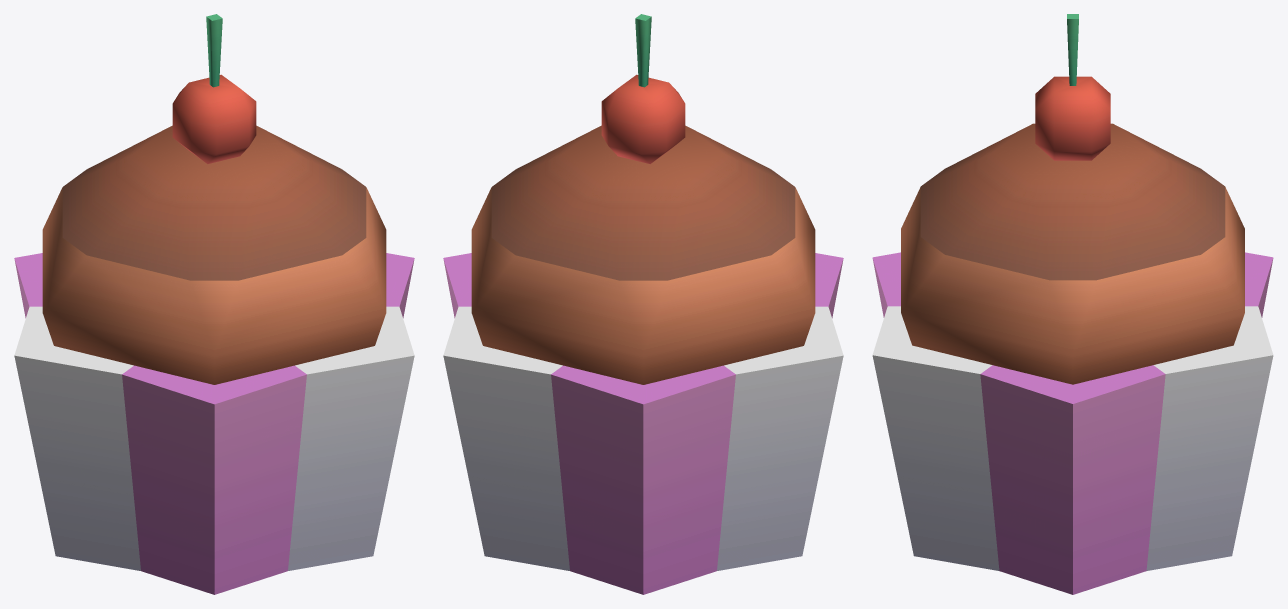
Rendered from cupcake.glb.
The picture shows the model from 3 angles, left to right: view 1: azimuth 30°, elevation 25°; view 2: azimuth 150°, elevation 25°; view 3: azimuth 270°, elevation 25°; orthographic projection.
Parts seen in each view (by area): view 1: cupcake, cake, cherry; view 2: cupcake, cake, cherry; view 3: cupcake, cake, cherry.
Part boxes in pixels (bbox=[...]): cupcake: bbox=[14, 253, 414, 594]; cake: bbox=[42, 125, 386, 384]; cherry: bbox=[172, 14, 256, 163]; cupcake: bbox=[443, 253, 843, 594]; cake: bbox=[471, 125, 815, 384]; cherry: bbox=[601, 14, 685, 163]; cupcake: bbox=[872, 252, 1273, 594]; cake: bbox=[901, 123, 1244, 384]; cherry: bbox=[1035, 14, 1110, 160].
Bounding box in the file's own units: 0.3552 × 0.4238 × 0.3076.
Materials: 1 (1 with a texture image).
